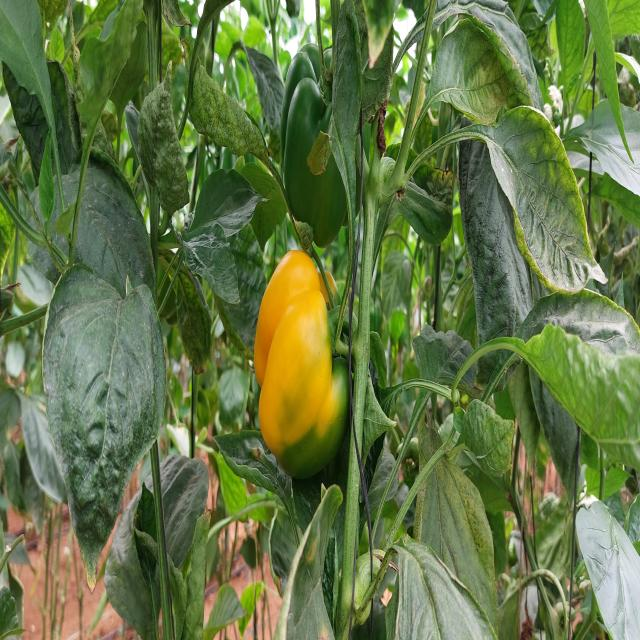GreenishYellow--Can-be-Harvested: (244, 255, 373, 482)
